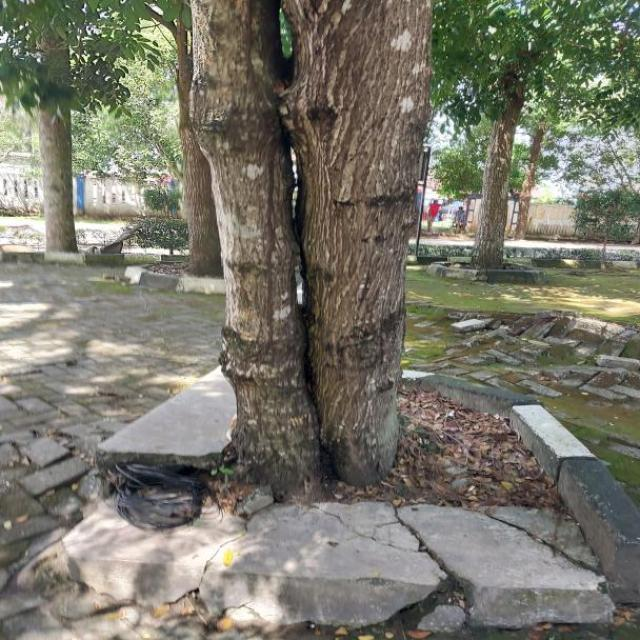tree ahead at: (184, 0, 435, 492)
